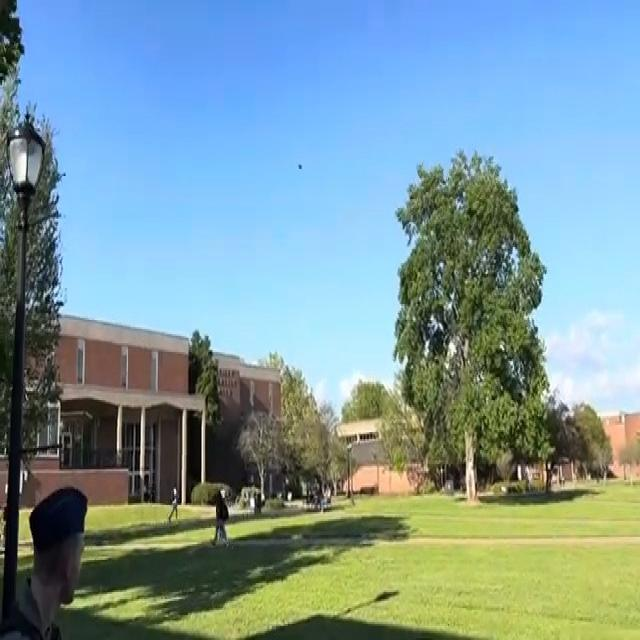drone: (292, 147, 308, 183)
